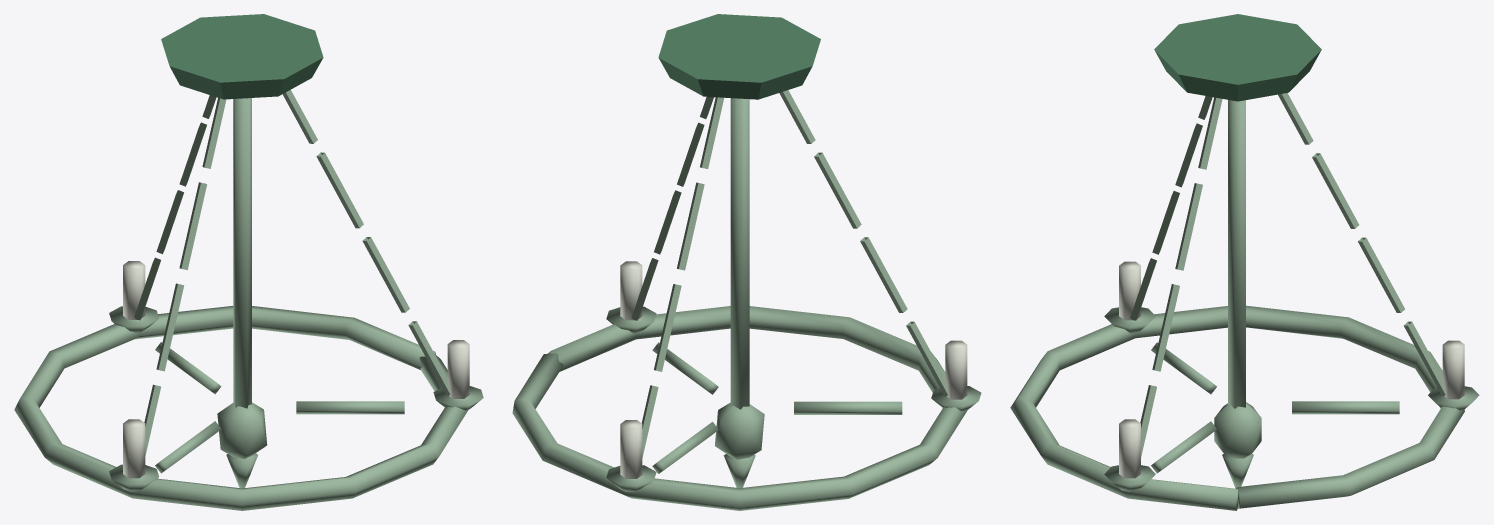
Rendered from green_dungeon_chandelier_v0.glb.
3 renders of one model, left to right at view 1: azimuth 30°, elevation 25°; view 2: azimuth 150°, elevation 25°; view 3: azimuth 270°, elevation 25°, orthographic.
Parts seen in each view (by area): view 1: green_dungeon_chandelier_v0; view 2: green_dungeon_chandelier_v0; view 3: green_dungeon_chandelier_v0.
Part boxes in pixels (x1,y1,x2,y2): green_dungeon_chandelier_v0: [14, 14, 483, 510]; green_dungeon_chandelier_v0: [512, 14, 981, 510]; green_dungeon_chandelier_v0: [1010, 14, 1479, 510].
Bounding box in the file's own units: 1.14 × 1.23 × 1.17.
